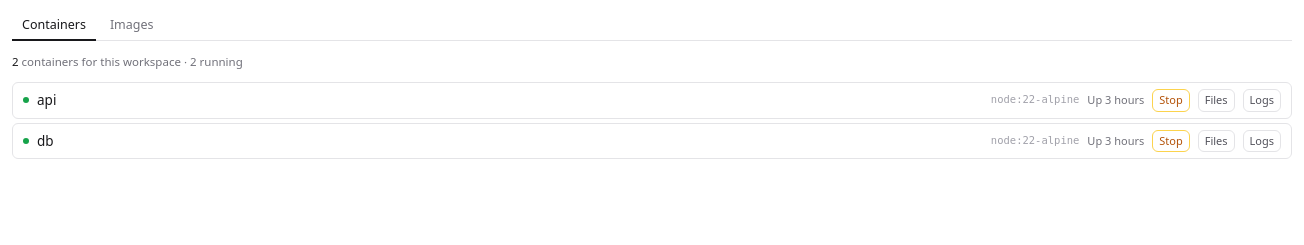
Test: TASK-1896 — Logs and Files are one pane, and it closes › AC-1 — a pane on one container closes when the OTHER container's pane opens
Click the button with test id "docker-logs-api".
click(1262, 100)  # box x1=1242 y1=89 x2=1281 y2=112
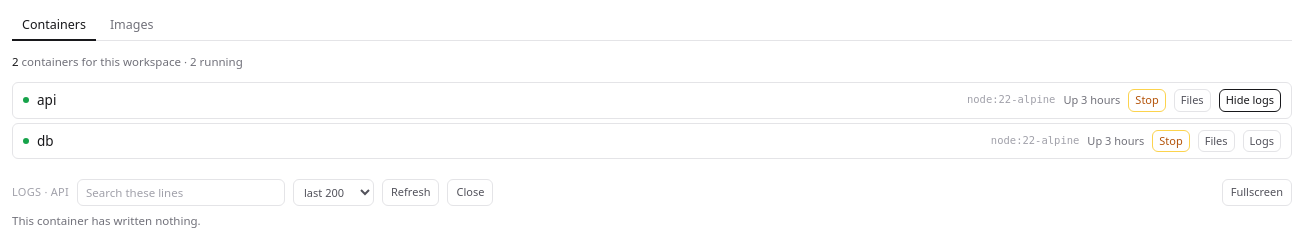
Click the button "Files" in the row of "db".
click(1216, 141)  # box x1=1198 y1=130 x2=1235 y2=152
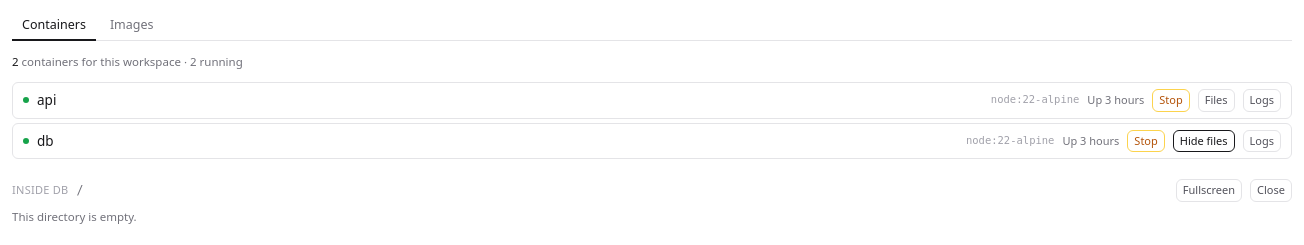
Expected: the element with test id "docker-logs-pane" is gone
Expected: the element with test id "container-files" is shown, x1=12 y1=179 x2=1292 y2=225
